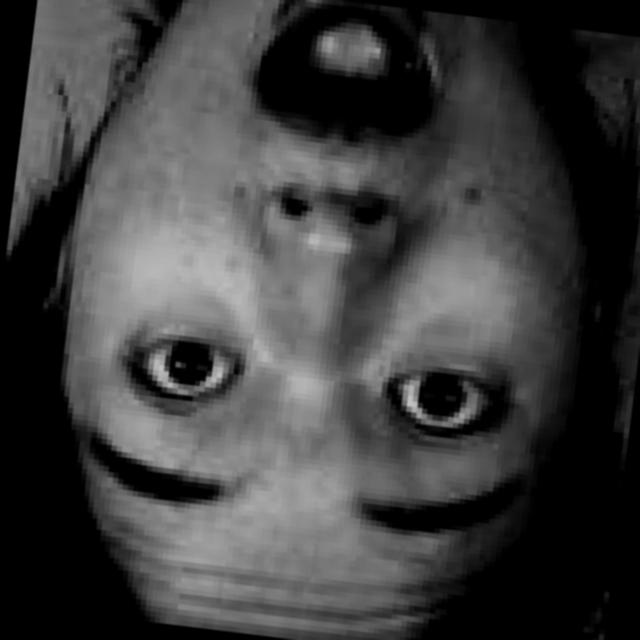surprise: (17, 0, 592, 612)
